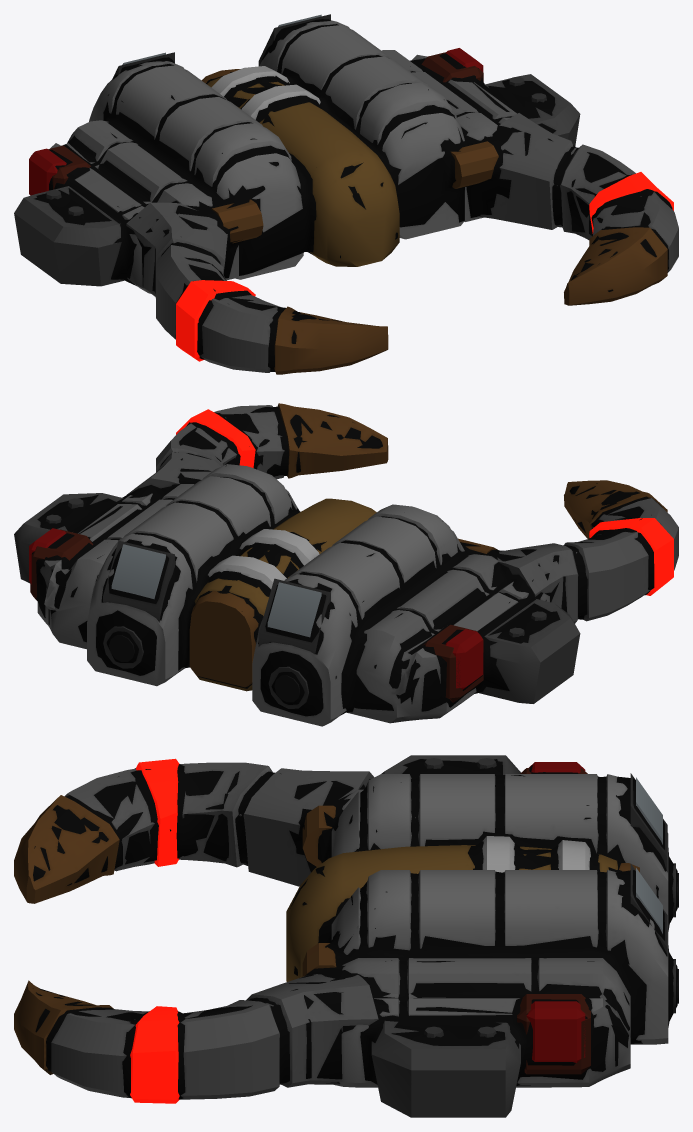
The model's file is protron-cannon-tangerine.glb.
The picture shows the model from 3 angles, top to bottom: view 1: azimuth 30°, elevation 25°; view 2: azimuth 150°, elevation 25°; view 3: azimuth 270°, elevation 25°; orthographic projection. The views are drawn at different scales.
Parts seen in each view (by area): view 1: sidekick-protron-cannon-tangerine, sidekick-protron-cannon-tangerine_outline; view 2: sidekick-protron-cannon-tangerine, sidekick-protron-cannon-tangerine_outline; view 3: sidekick-protron-cannon-tangerine, sidekick-protron-cannon-tangerine_outline.
Part boxes in pixels (left/top/right/bottom): sidekick-protron-cannon-tangerine: left=14, top=14, right=678, bottom=374; sidekick-protron-cannon-tangerine_outline: left=34, top=19, right=672, bottom=371; sidekick-protron-cannon-tangerine: left=14, top=403, right=678, bottom=726; sidekick-protron-cannon-tangerine_outline: left=32, top=406, right=662, bottom=716; sidekick-protron-cannon-tangerine: left=14, top=755, right=678, bottom=1117; sidekick-protron-cannon-tangerine_outline: left=33, top=759, right=677, bottom=1099.
Size of the model in its own units: 1.59 by 0.3584 by 1.47.
14 materials, 8 textured.
